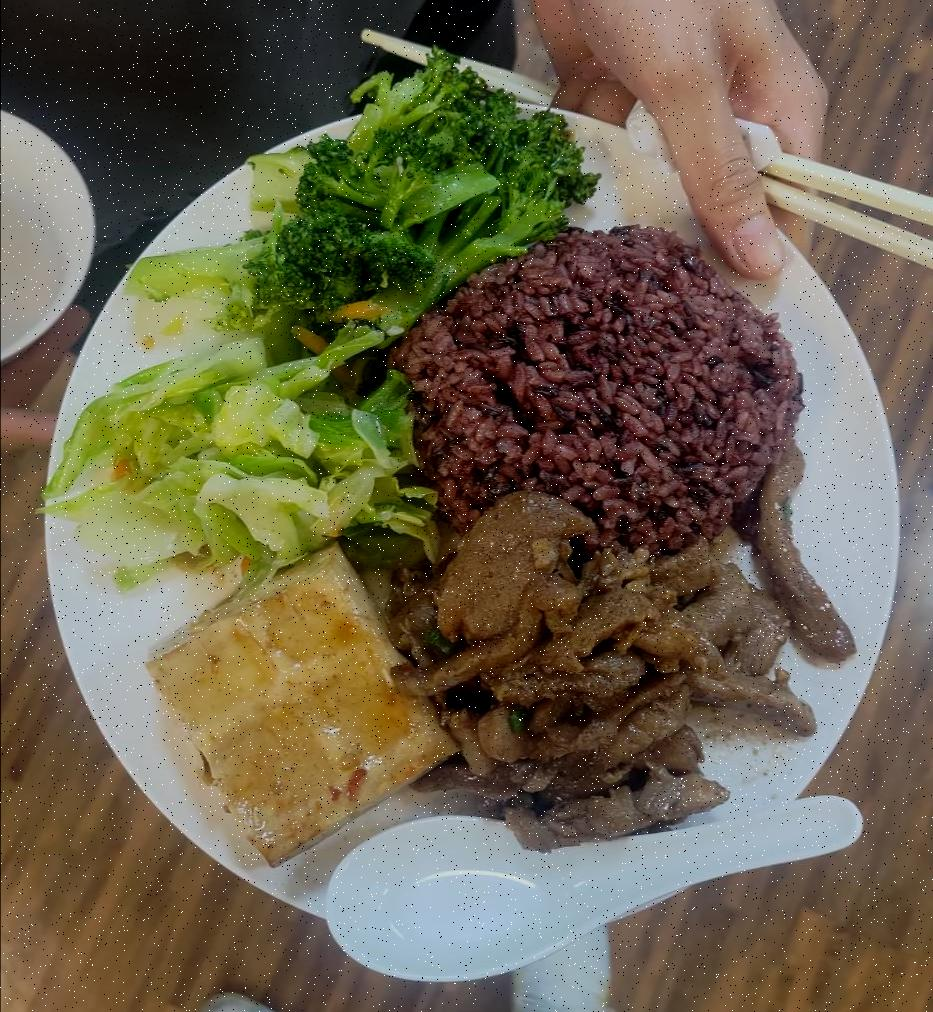big fried chicken leg: (32, 78, 922, 947)
braised fish: (384, 233, 812, 569)
braised fish fillet: (153, 72, 612, 368), (135, 540, 454, 877), (50, 353, 412, 581)
braised pork: (402, 496, 852, 848)
